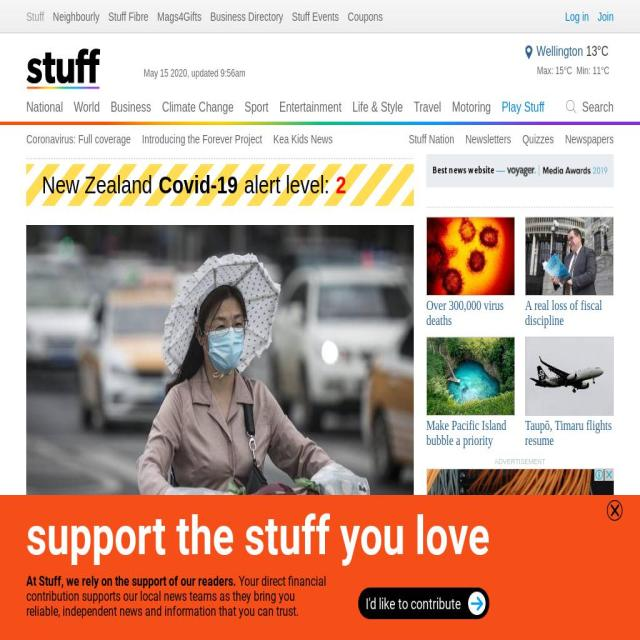button: (26, 225, 414, 525), (358, 588, 489, 619), (158, 91, 238, 124), (274, 91, 346, 124), (348, 91, 408, 124), (426, 456, 614, 466), (497, 91, 549, 124), (106, 91, 156, 124), (448, 91, 496, 124), (27, 91, 68, 124), (410, 91, 446, 124), (70, 91, 104, 124), (240, 91, 273, 124), (607, 500, 622, 521), (565, 10, 589, 23), (525, 44, 537, 63), (598, 10, 614, 23)
heading: (27, 512, 604, 562), (26, 42, 136, 90), (32, 534, 252, 557), (525, 418, 612, 448), (426, 418, 506, 448), (426, 298, 504, 328), (525, 298, 603, 328), (227, 626, 380, 640), (26, 626, 173, 640), (256, 541, 265, 552), (382, 631, 392, 640), (177, 631, 186, 640)
iframe: (0, 0, 640, 228), (426, 468, 614, 640), (26, 164, 414, 206), (426, 154, 614, 188)
image: (26, 225, 414, 525), (426, 217, 514, 294), (525, 217, 613, 294), (426, 337, 514, 414), (525, 337, 613, 414), (582, 100, 614, 125), (468, 592, 486, 615), (607, 500, 622, 521), (525, 45, 533, 59)
link: (142, 132, 265, 146), (26, 132, 133, 146), (210, 10, 284, 23), (273, 132, 333, 146), (408, 132, 457, 146), (465, 132, 514, 146), (565, 132, 614, 146), (536, 44, 584, 58), (52, 10, 100, 23), (292, 10, 339, 23), (157, 10, 201, 23), (109, 10, 150, 23), (522, 132, 556, 146), (348, 10, 383, 23), (26, 10, 44, 23)
text: (26, 573, 326, 619), (32, 562, 398, 589), (136, 38, 246, 79), (26, 573, 236, 589), (366, 594, 461, 613), (512, 65, 610, 77), (582, 100, 614, 114), (586, 44, 608, 59), (32, 564, 62, 572)
